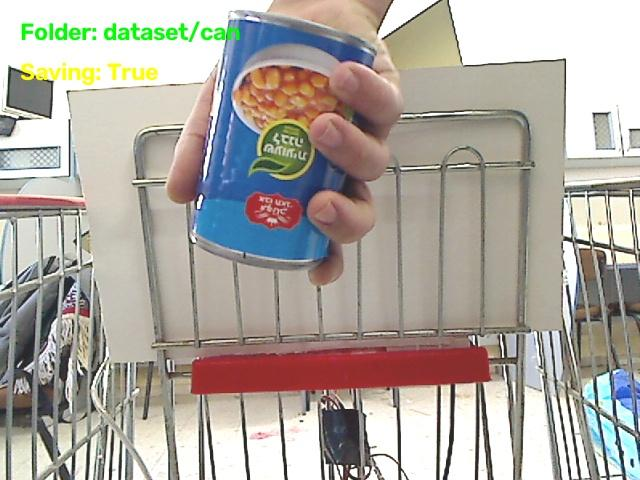can: (191, 11, 375, 269)
